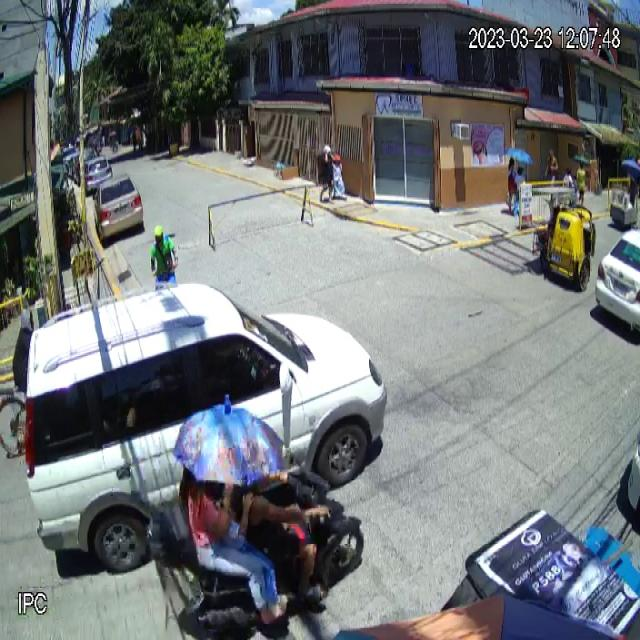Car: (24, 282, 390, 577), (92, 172, 144, 243)
Tricycle: (531, 183, 596, 291)
